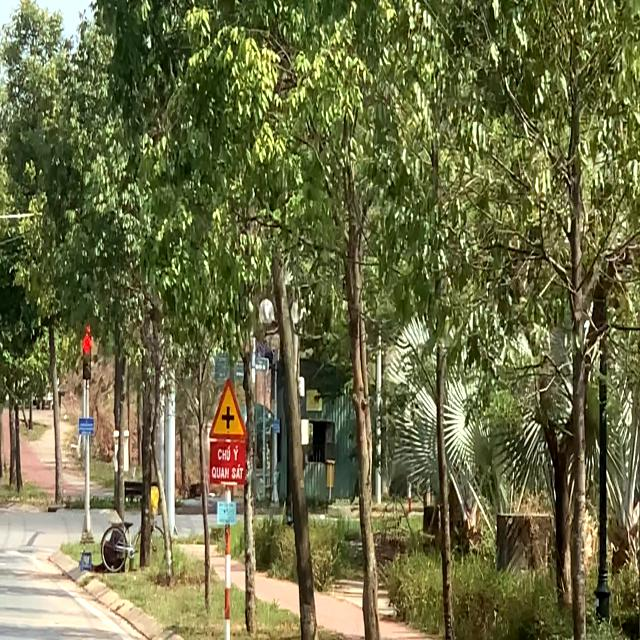W.205a: (207, 374, 249, 444)
